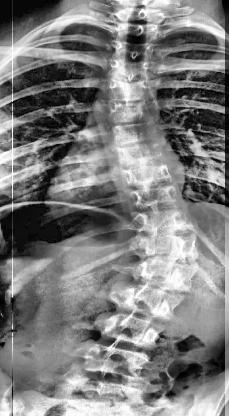Vertebrae: (76, 339, 150, 379), (114, 282, 182, 324), (98, 310, 165, 352), (138, 258, 204, 292), (130, 208, 198, 236), (139, 226, 204, 254), (120, 166, 184, 192), (126, 184, 188, 209), (120, 146, 174, 172), (108, 124, 162, 148), (102, 78, 156, 102), (114, 2, 166, 26), (114, 19, 161, 45), (112, 99, 154, 127), (114, 57, 156, 85), (111, 41, 159, 65)
